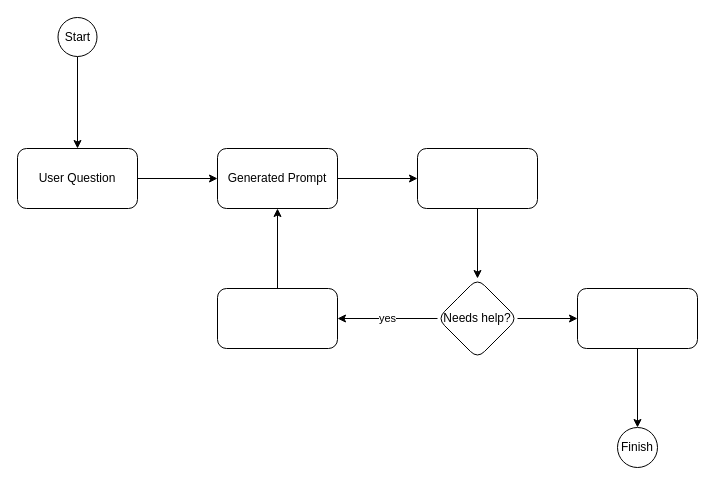
This 715x485 diagram has some shape labels left out. The box of each missing label's shape, as (x1, y1, x2, y2) in pixels:
Answer Question: (576, 288, 698, 348)
Call to Agent/Tool: (216, 288, 338, 348)
LLM Model: (416, 148, 538, 208)
